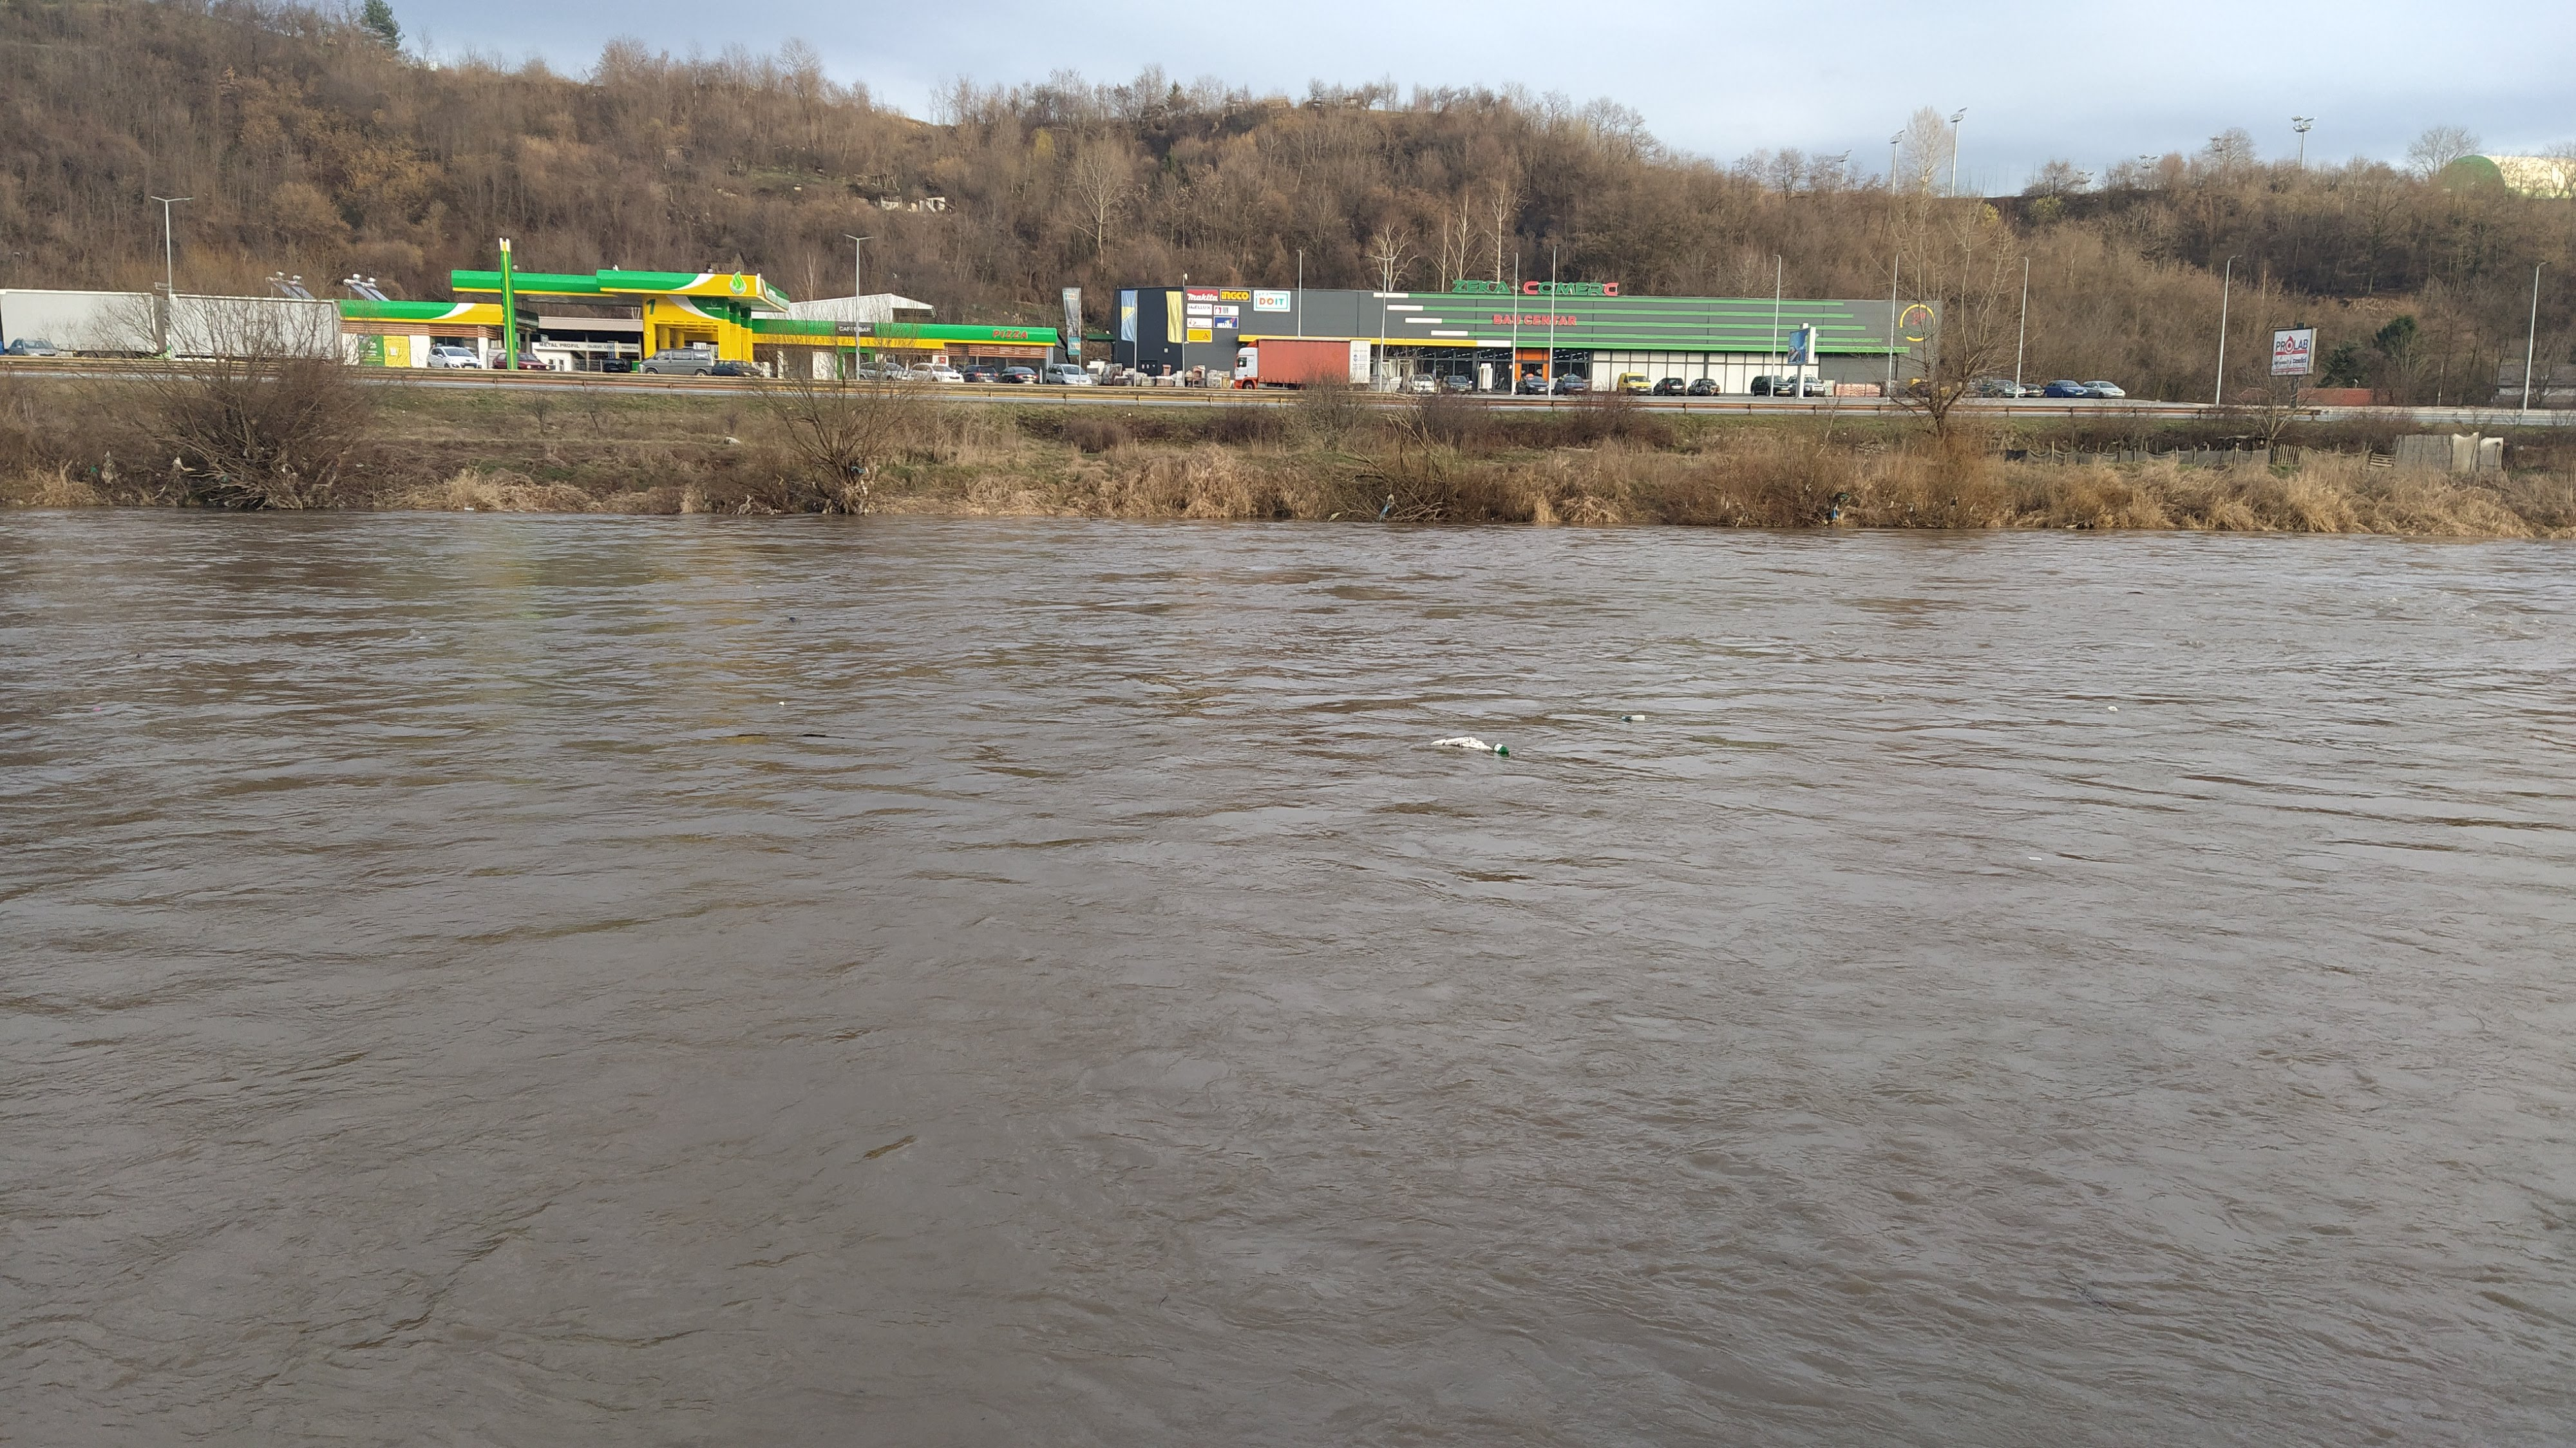Plastic Bottle: (1493, 743, 1509, 754), (1629, 713, 1645, 722), (1875, 694, 1884, 703), (1621, 715, 1631, 722), (410, 628, 416, 637), (789, 616, 794, 623)
